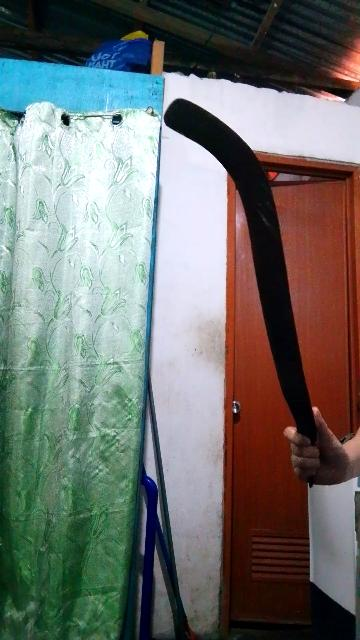long knife: (155, 87, 343, 496)
